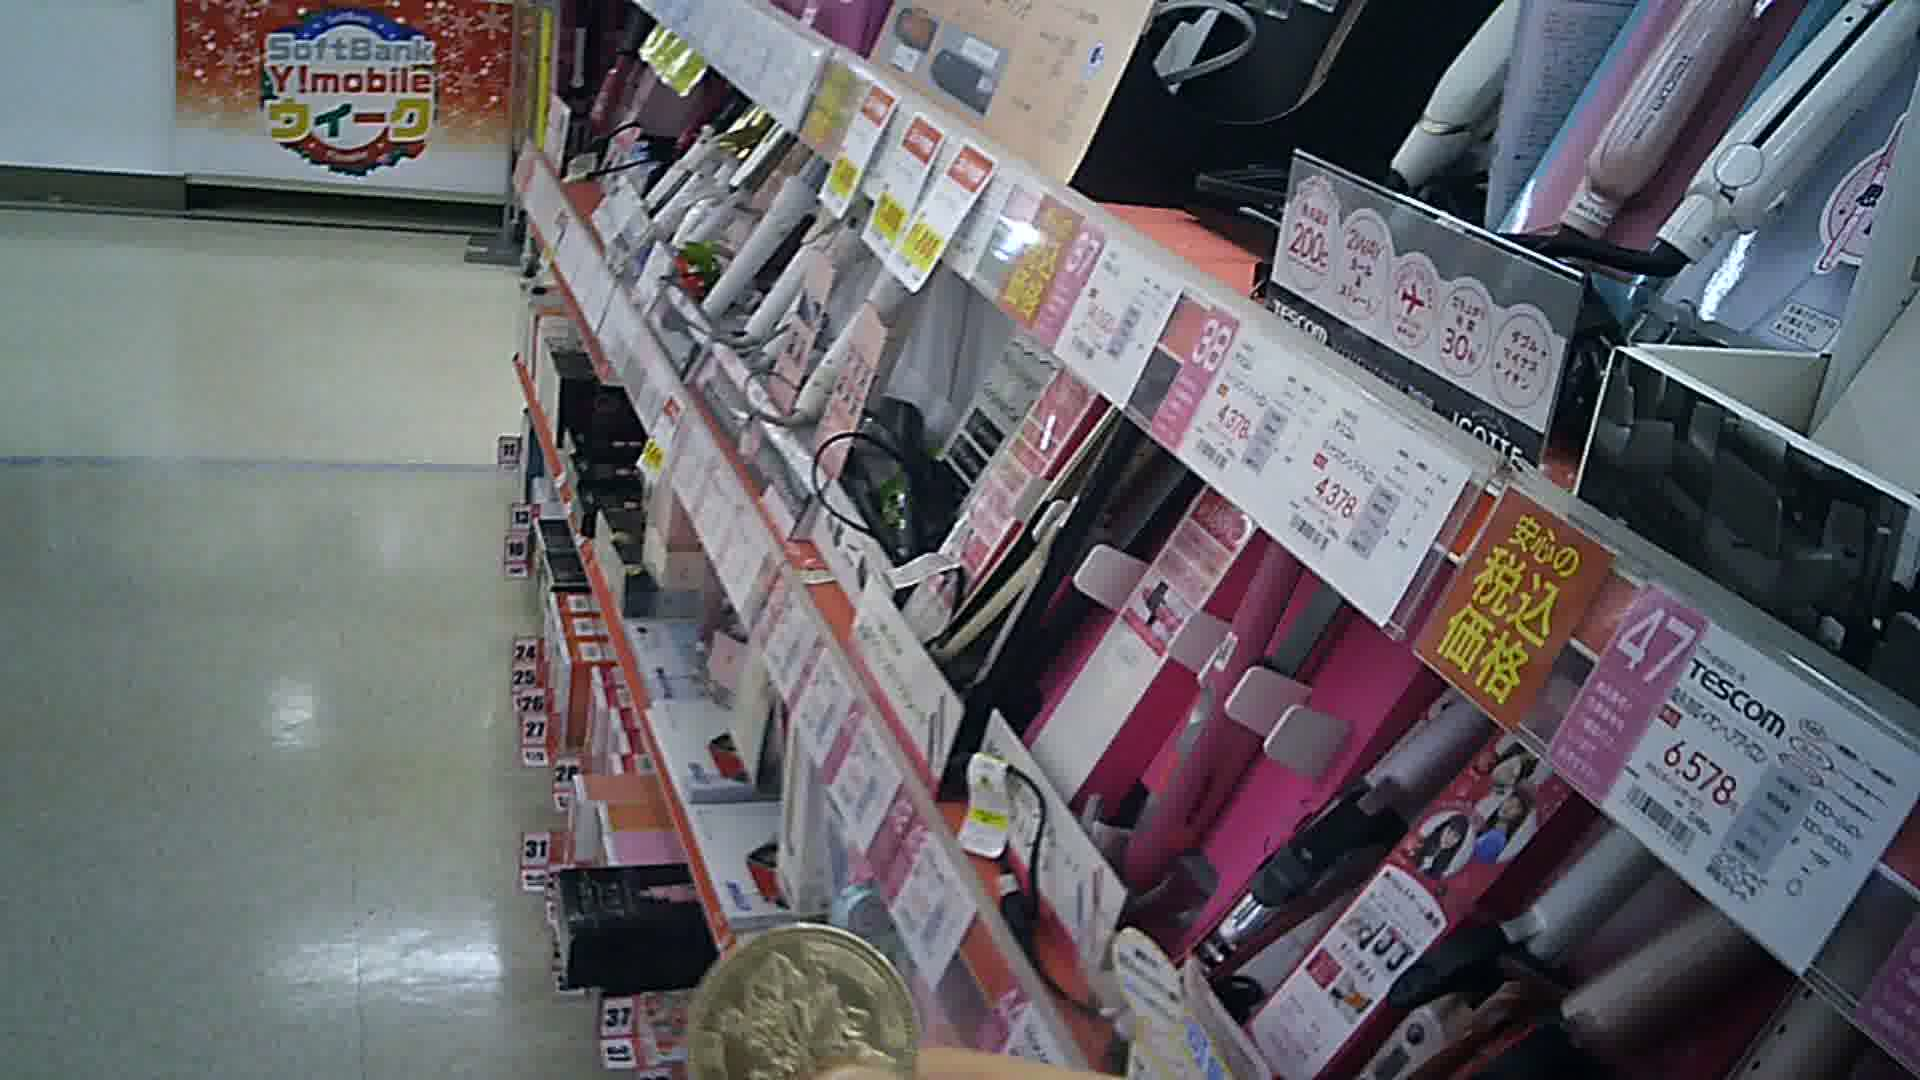500 Yen: (676, 920, 936, 1079)
